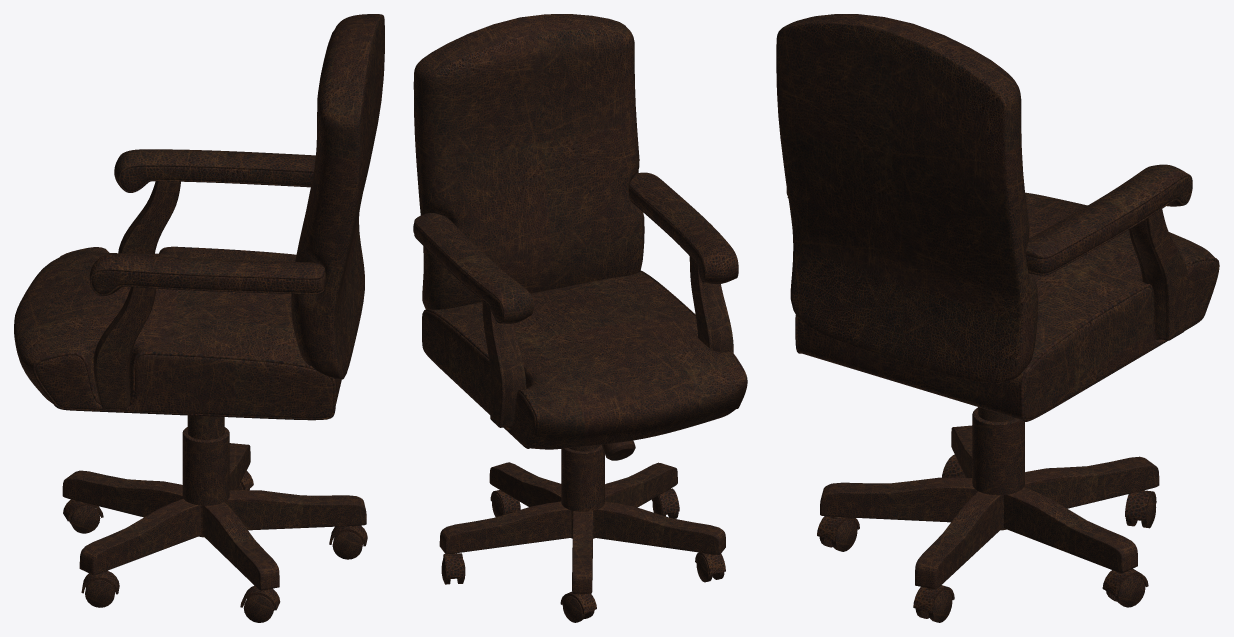
The model's file is SillaJefe.fbx.
3 views of the same model, side by side, from view 1: azimuth 30°, elevation 25°; view 2: azimuth 150°, elevation 25°; view 3: azimuth 270°, elevation 25° (orthographic). The views are drawn at different scales.
Visible parts, largest first — view 1: defaultMaterial.008; view 2: defaultMaterial.008; view 3: defaultMaterial.008.
Boxes of the visible parts, x1,y1,x2,y2 form: defaultMaterial.008: (14,14,384,622); defaultMaterial.008: (413,14,747,622); defaultMaterial.008: (776,14,1219,622).
Size of the model in its own units: 141 by 200 by 136.
1 material, 1 textured.
